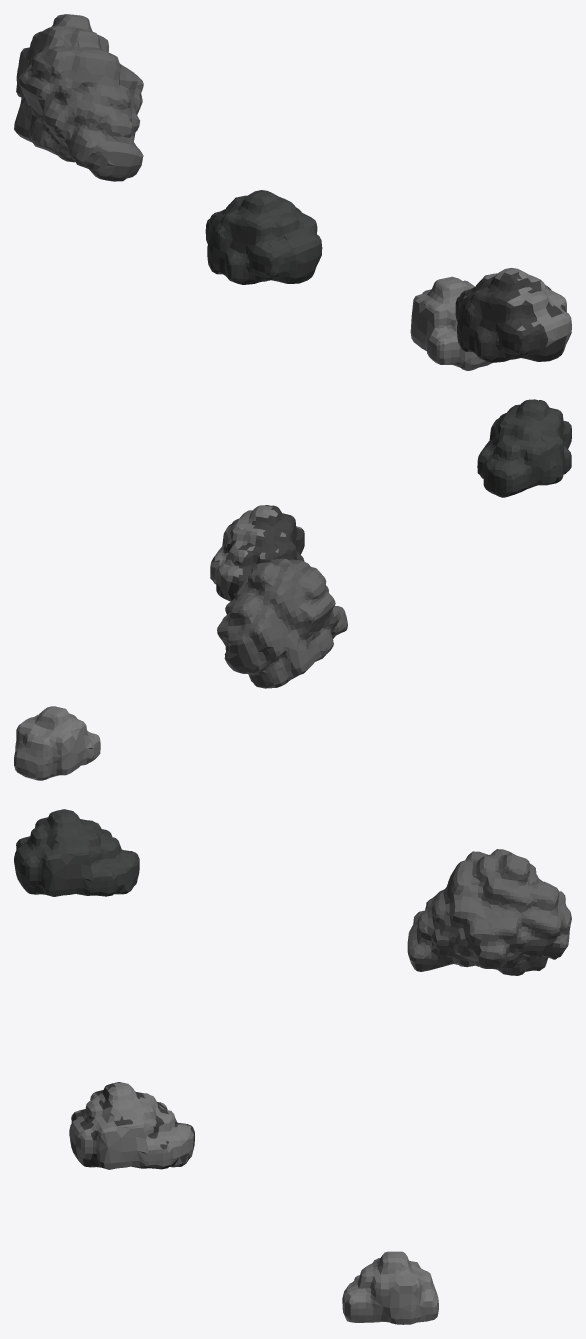
The model's file is Pedras 01.fbx.
3 views of the same model, one above another, from view 1: azimuth 30°, elevation 25°; view 2: azimuth 150°, elevation 25°; view 3: azimuth 270°, elevation 25° (orthographic). The views are drawn at different scales.
Parts seen in each view (by area): view 1: Mball.008, Mball.001, Mball.003, Mball.021; view 2: Mball.008, Mball.003, Mball.001, Mball.021; view 3: Mball.008, Mball.003, Mball.001, Mball.021.
Part boxes in pixels (x1,y1,x2,y2): Mball.008: (14,14,143,181); Mball.001: (455,268,571,362); Mball.003: (205,190,322,284); Mball.021: (410,276,492,370); Mball.008: (217,558,347,688); Mball.003: (477,399,571,497); Mball.001: (210,505,304,601); Mball.021: (14,706,100,780); Mball.008: (407,849,571,975); Mball.003: (14,809,139,896); Mball.001: (69,1082,194,1169); Mball.021: (342,1251,438,1324).
Size of the model in its own units: 3854 by 3133 by 4617.
4 materials, 4 textured.
